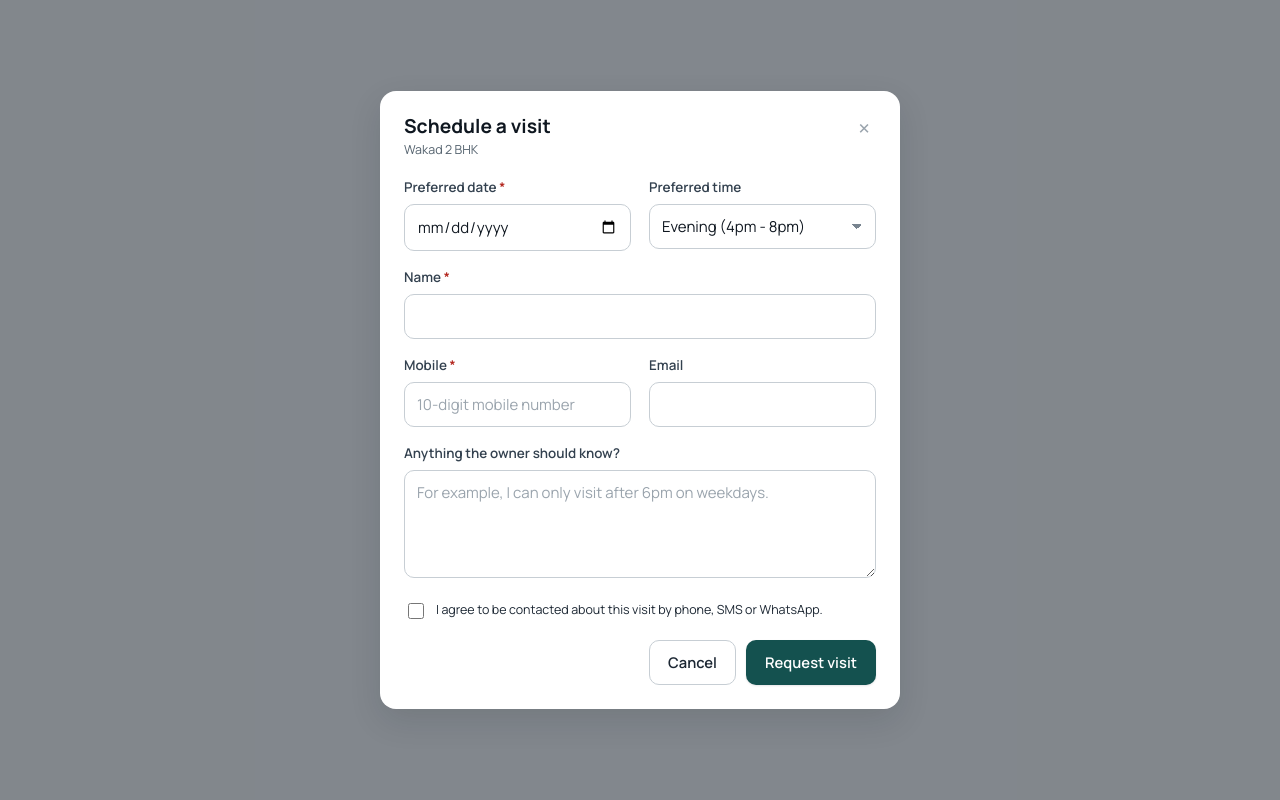
Test: VisitRequestModal › keeps the form and shows why when the server refuses
Type "2026-10-01" into the date field labelled "Preferred date *".
click(518, 228); type("2026-10-01")  # box x1=404 y1=204 x2=631 y2=251
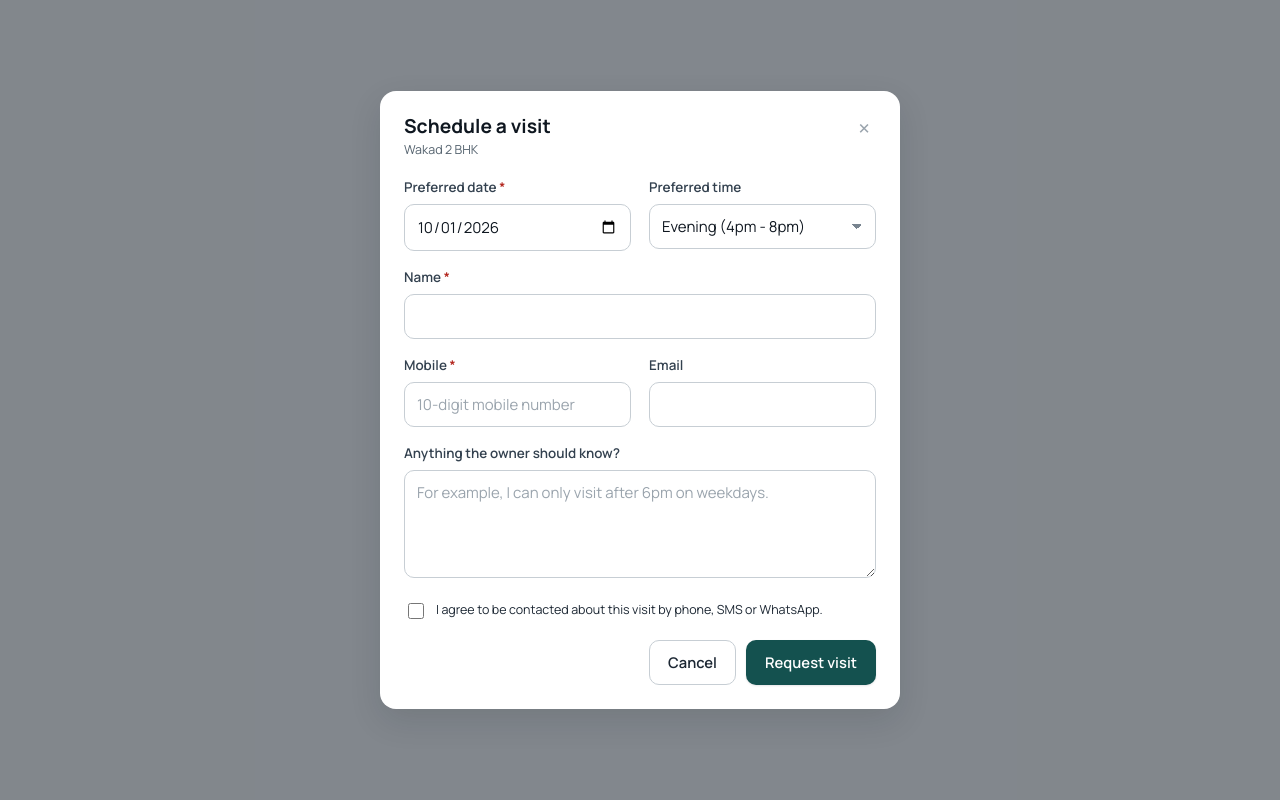
Type "Anjali Rao" into the field labelled "Name *".
click(640, 317); type("Anjali Rao")  # box x1=404 y1=294 x2=876 y2=339
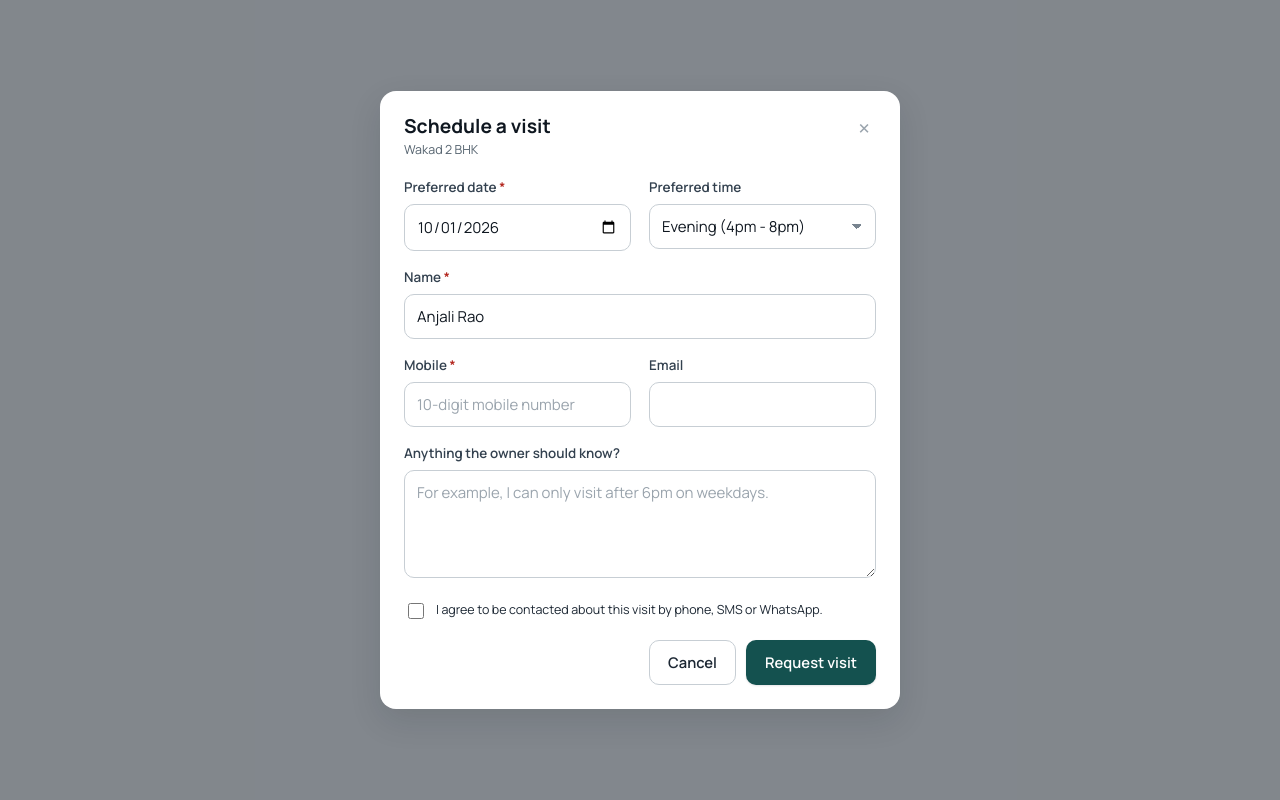
Type "9812340001" into the field labelled "Mobile *".
click(518, 405); type("9812340001")  # box x1=404 y1=382 x2=631 y2=427
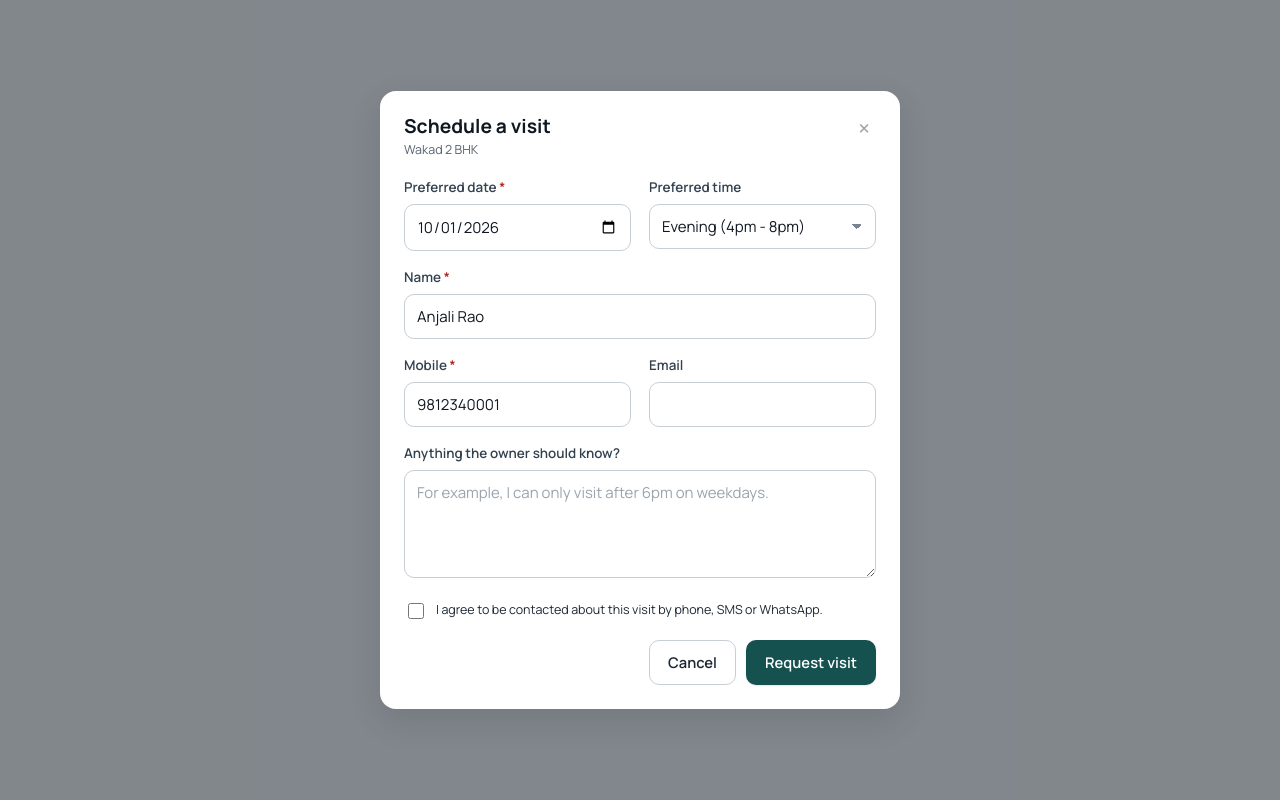
Click the checkbox.
click(416, 611)  # box x1=408 y1=603 x2=424 y2=619
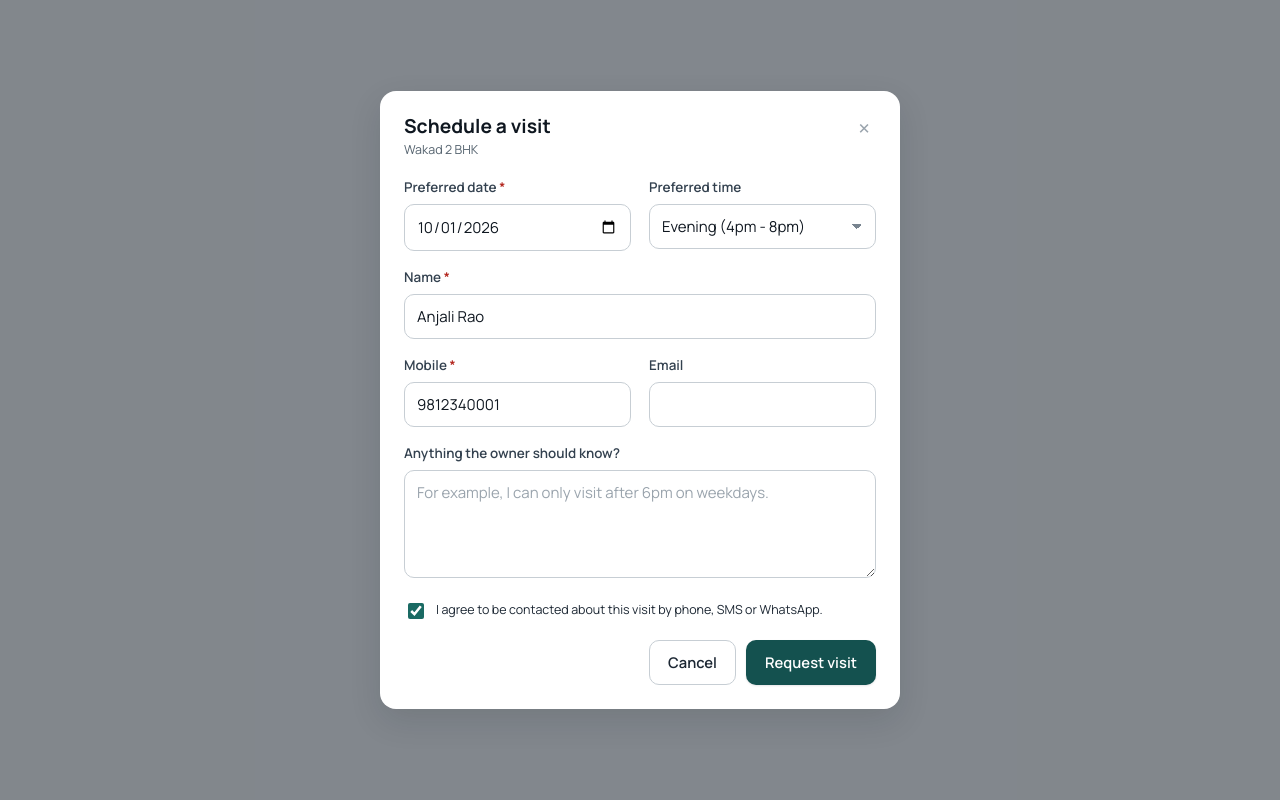
Submit the form, box x1=404 y1=177 x2=876 y2=685
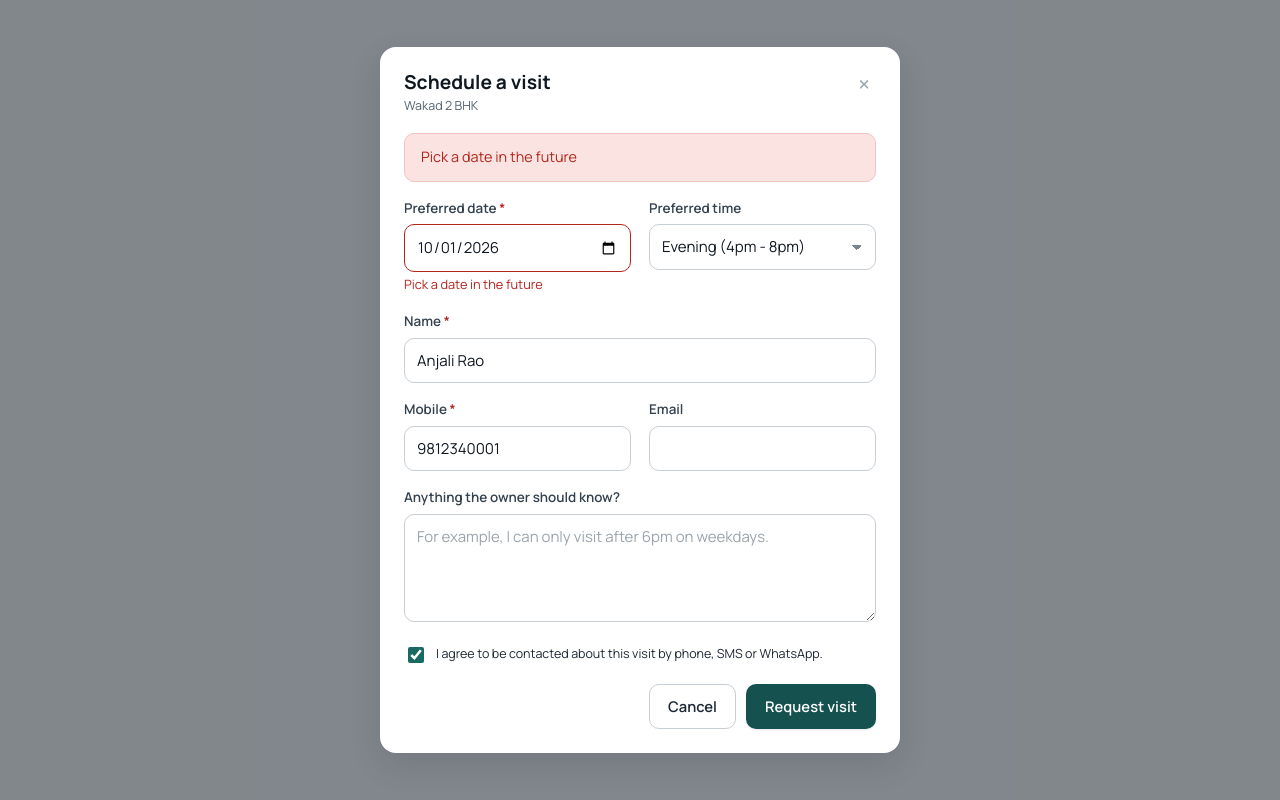
Expected: the form is shown, x1=404 y1=133 x2=876 y2=729
Result: the text "Pick a date in the future" is shown at x1=404 y1=133 x2=876 y2=182
Result: the text with class "field-error" is shown at x1=404 y1=275 x2=543 y2=293
